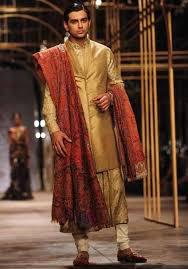Design Sherwani: (29, 37, 149, 236)
